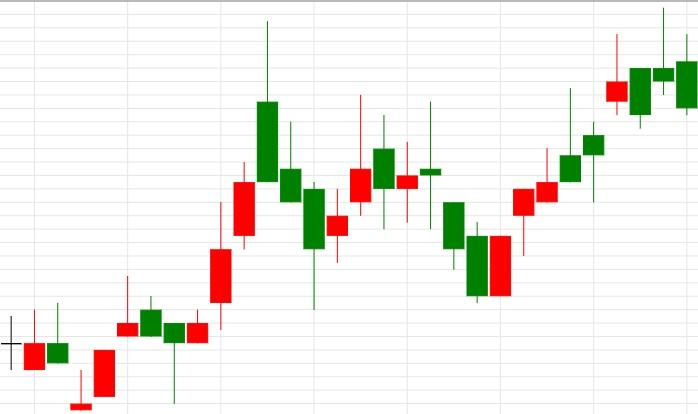shooting_star_fall: (489, 34, 628, 297)
